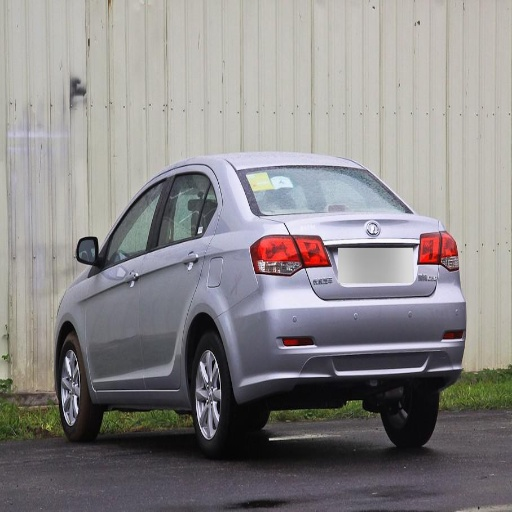back_bumper: (225, 265, 467, 395)
back_glass: (238, 168, 409, 215)
back_left_door: (140, 165, 222, 387)
tailgate: (273, 209, 435, 297)
